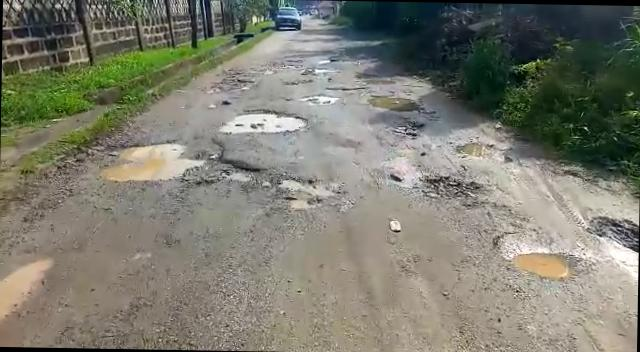pothole: (98, 139, 242, 185), (0, 255, 55, 323), (502, 247, 586, 282), (276, 173, 346, 214), (221, 107, 310, 137), (584, 213, 640, 259), (422, 172, 498, 204), (454, 139, 514, 161), (366, 94, 428, 115), (302, 93, 342, 105), (305, 65, 336, 73)
